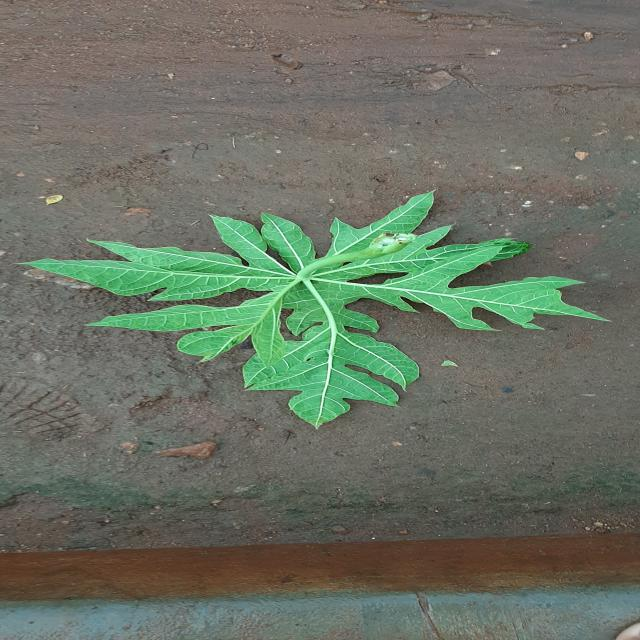papaya: (24, 192, 602, 426)
